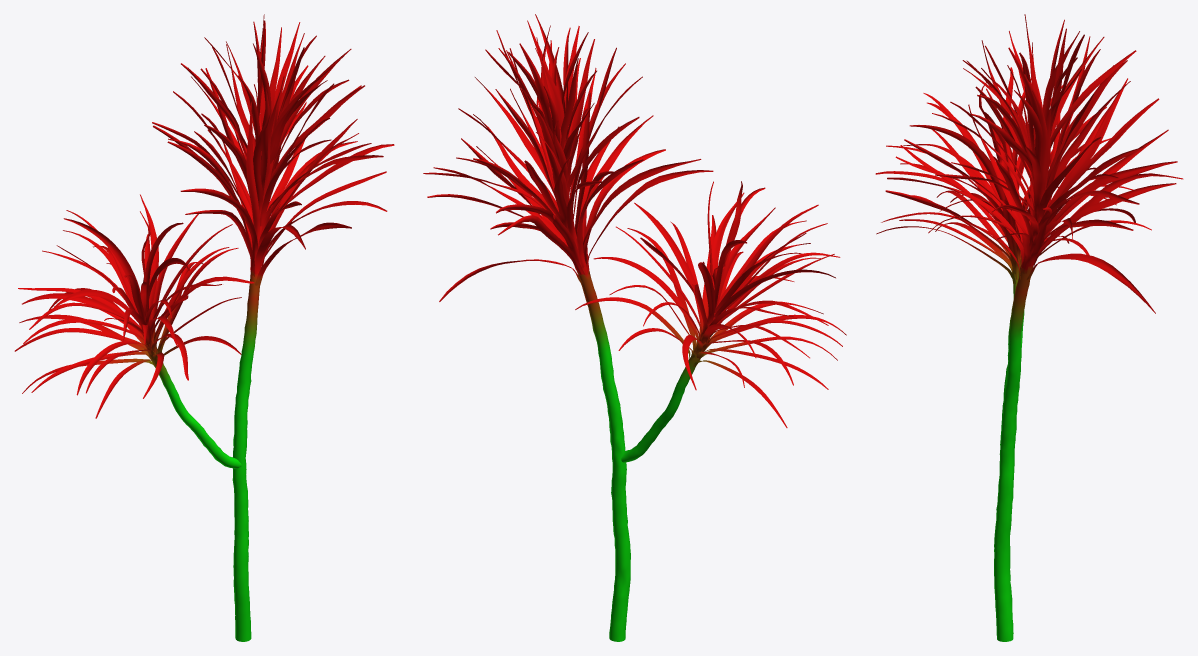
File: Dragon Tree_LOD0_Var2_wfypejzha.fbx
The picture shows the model from 3 angles, left to right: view 1: azimuth 30°, elevation 25°; view 2: azimuth 150°, elevation 25°; view 3: azimuth 270°, elevation 25°; orthographic projection. The views are drawn at different scales.
Visible parts, largest first — view 1: _99rx_Var2_LOD0; view 2: _99rx_Var2_LOD0; view 3: _99rx_Var2_LOD0.
Part boxes in pixels (x1=…): _99rx_Var2_LOD0: x1=14, y1=14, x2=394, y2=641; _99rx_Var2_LOD0: x1=423, y1=14, x2=846, y2=641; _99rx_Var2_LOD0: x1=875, y1=14, x2=1183, y2=641.
Bounding box in the file's own units: 58.73 × 92.91 × 40.78.
